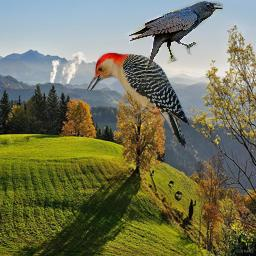Crow: (126, 1, 223, 72)
Woodpecker: (86, 52, 192, 152)
